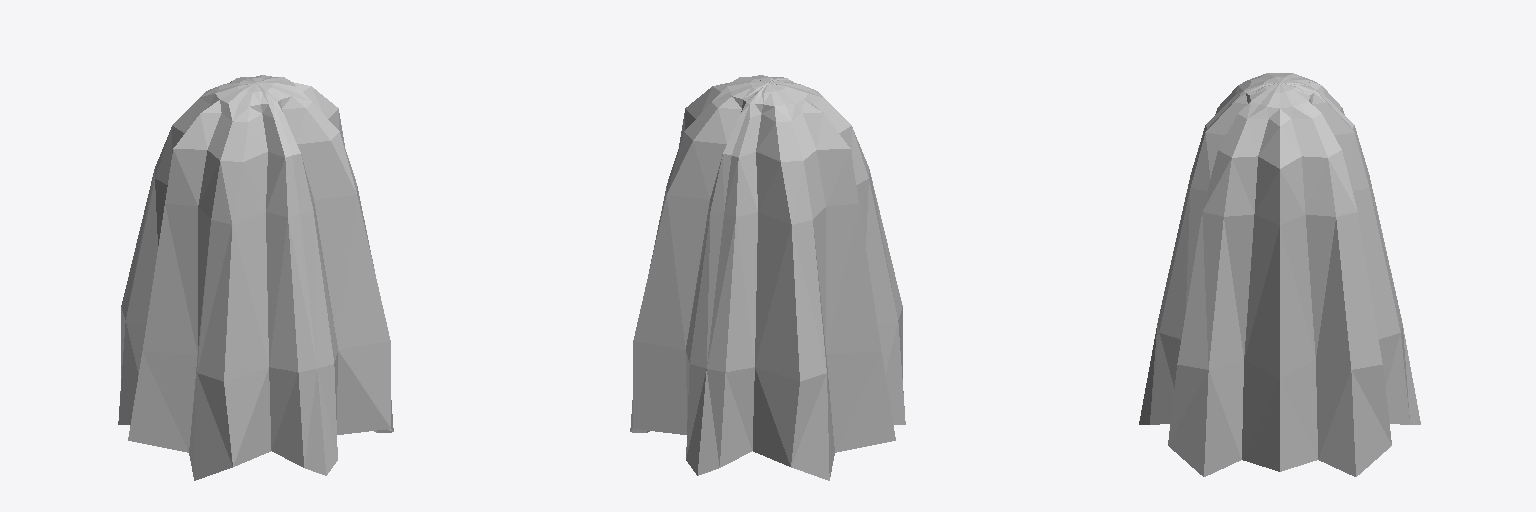
Rendered from ghost.obj.
3 renders of one model, left to right at view 1: azimuth 30°, elevation 25°; view 2: azimuth 150°, elevation 25°; view 3: azimuth 270°, elevation 25°, orthographic.
Visible parts, largest first — view 1: Ghost; view 2: Ghost; view 3: Ghost.
Part boxes in pixels (x1,y1,x2,y2): Ghost: (118,75,393,480); Ghost: (630,75,905,480); Ghost: (1139,73,1420,476).
Size of the model in its own units: 0.4621 by 0.5969 by 0.4408.